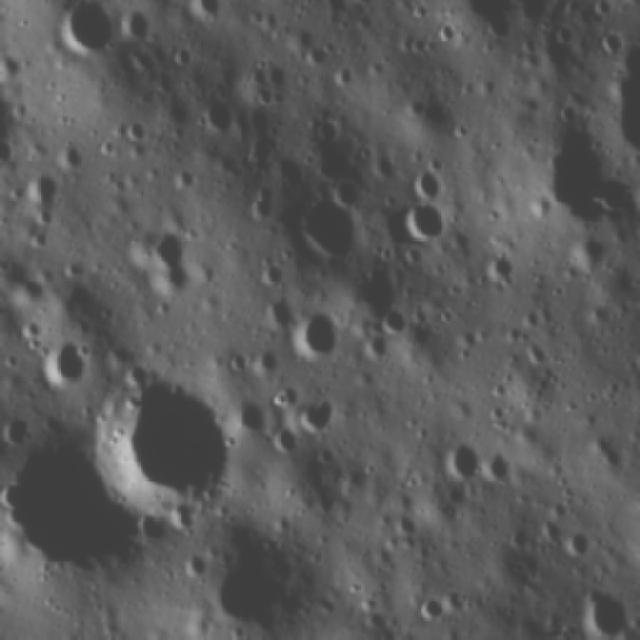crater: (100, 371, 252, 523), (289, 195, 374, 259), (48, 2, 128, 60), (298, 298, 349, 367), (570, 592, 635, 636), (297, 398, 348, 444), (39, 337, 84, 388), (200, 102, 258, 138), (408, 196, 444, 244), (440, 442, 478, 482), (411, 166, 455, 194), (311, 111, 344, 143), (551, 22, 578, 52), (432, 22, 463, 46), (561, 530, 590, 555), (274, 426, 298, 456), (602, 31, 628, 55), (559, 101, 583, 125), (122, 115, 147, 138)
